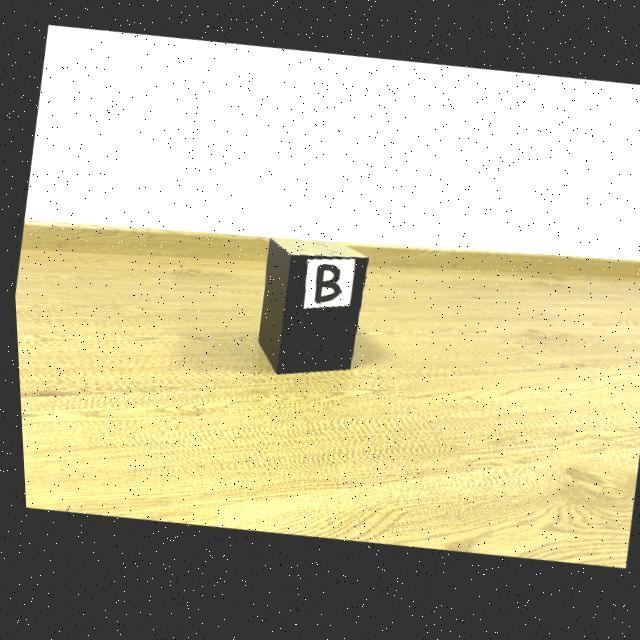B: (311, 269, 337, 308)
